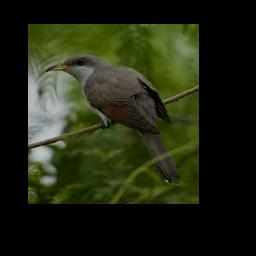Cuckoo: (47, 54, 180, 185)
